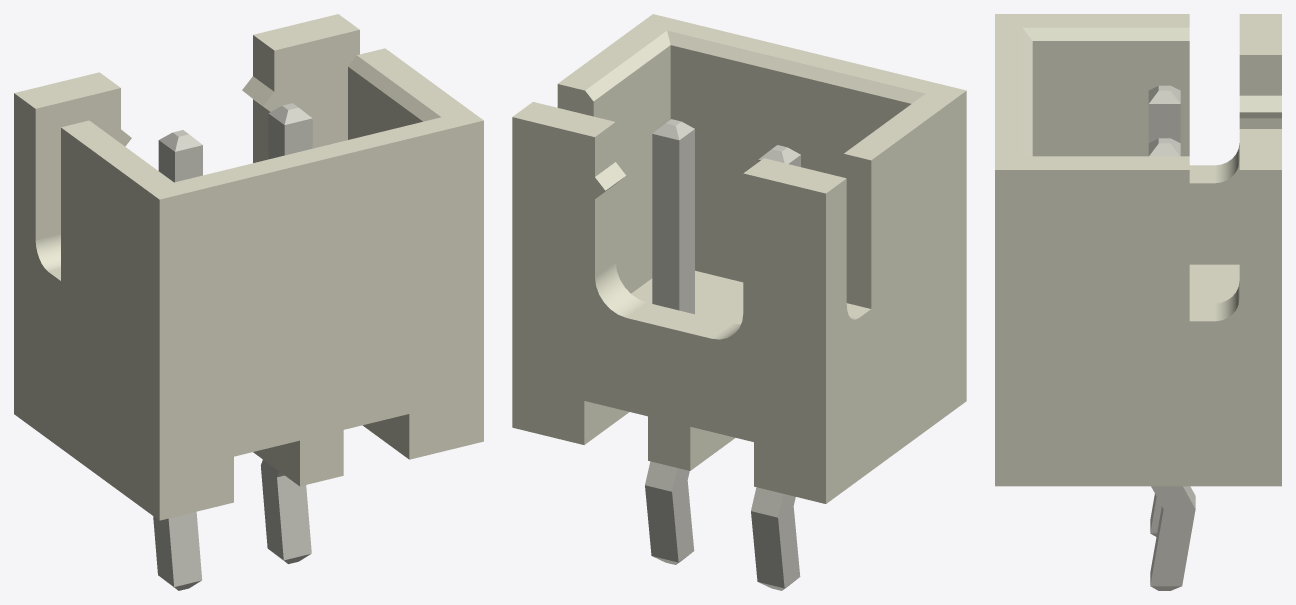
The model's file is JST_XH_B2B-XH-A_1x02_P2.50mm_Vertical.glb.
The picture shows the model from 3 angles, left to right: view 1: azimuth 30°, elevation 25°; view 2: azimuth 150°, elevation 25°; view 3: azimuth 270°, elevation 25°; orthographic projection. The views are drawn at different scales.
Visible parts, largest first — view 1: =>[0:1:1:3]; view 2: =>[0:1:1:3]; view 3: =>[0:1:1:3].
Part boxes in pixels (x1,y1,x2,y2): =>[0:1:1:3]: (14, 14, 483, 590); =>[0:1:1:3]: (512, 14, 966, 590); =>[0:1:1:3]: (995, 14, 1281, 590).
Size of the model in its own units: 0.0074 by 0.0104 by 0.00575.
